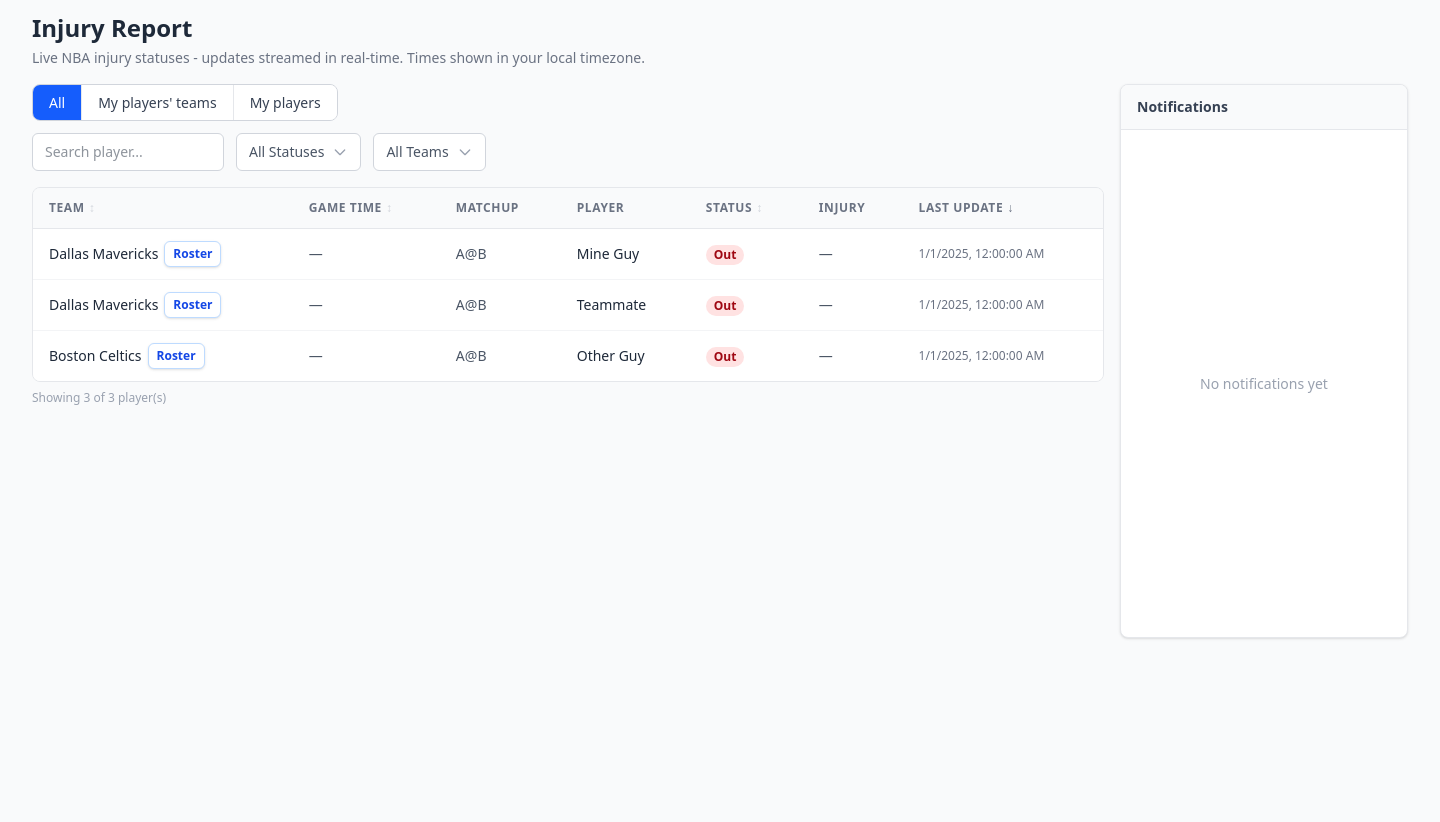
Injuries page with My Team set › keeps every injury on an NBA team one of my players plays for
The width and height of the screenshot is (1440, 822).
Step 1. Click the radio button labelled "My players' teams" → (158, 103), box [82, 85, 234, 120]
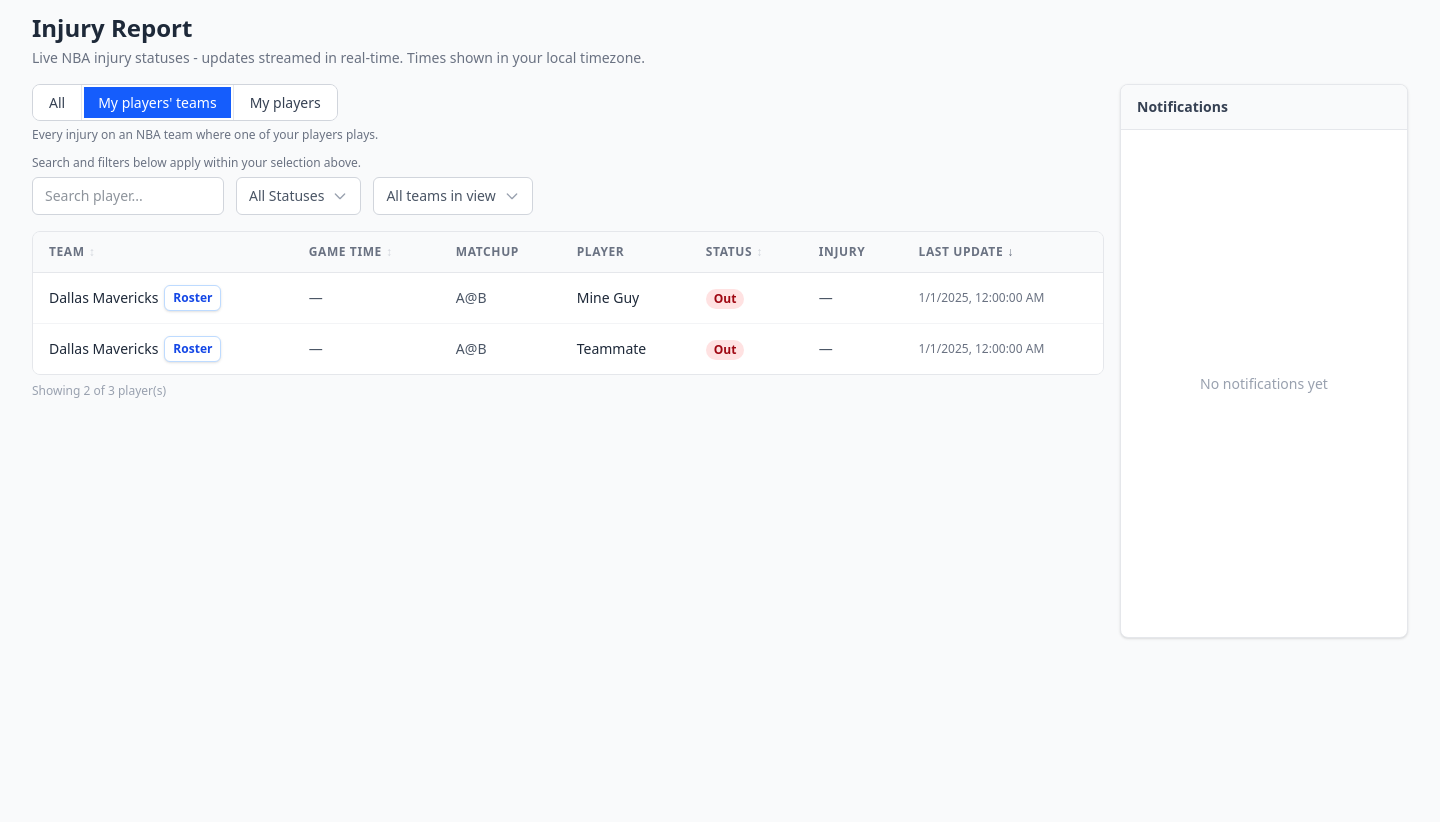
Expected: the text "Showing 2 of 3 player(s)" is shown, [32, 382, 166, 399]
Expected: the text "Every injury on an NBA team where one of your players plays." is shown, [32, 126, 378, 143]
Expected: the text "Other Guy" is gone
Step 2. Click the radio button labelled "My players" → (285, 103), box [234, 85, 337, 120]
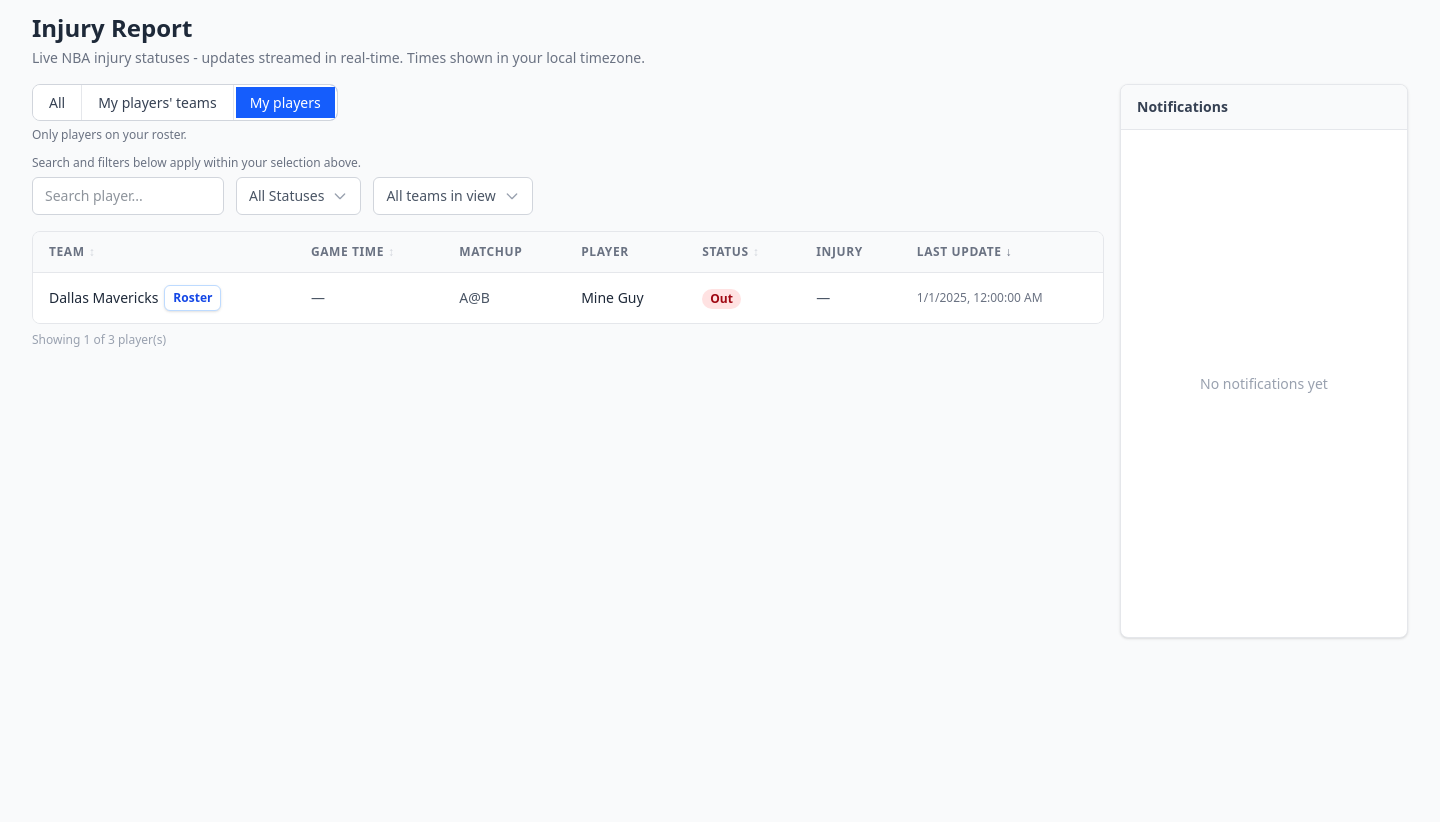
Expected: the text "Showing 1 of 3 player(s)" is shown, [32, 331, 166, 348]
Expected: the text "Teammate" is gone
